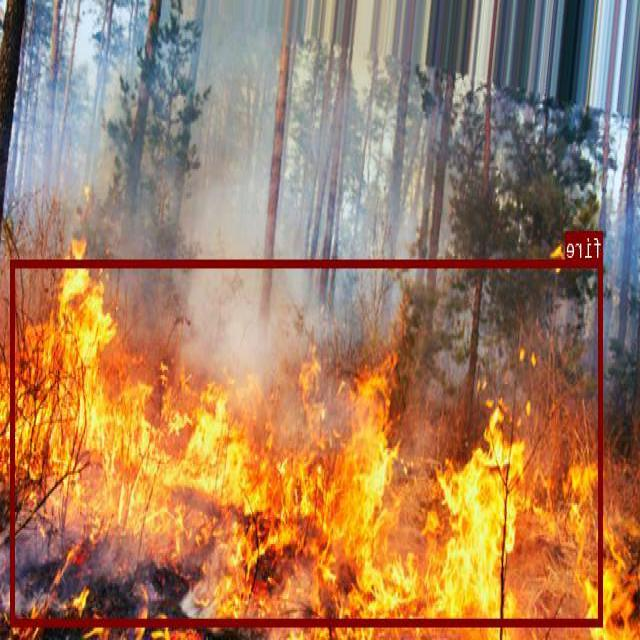fire: (11, 258, 604, 624)
